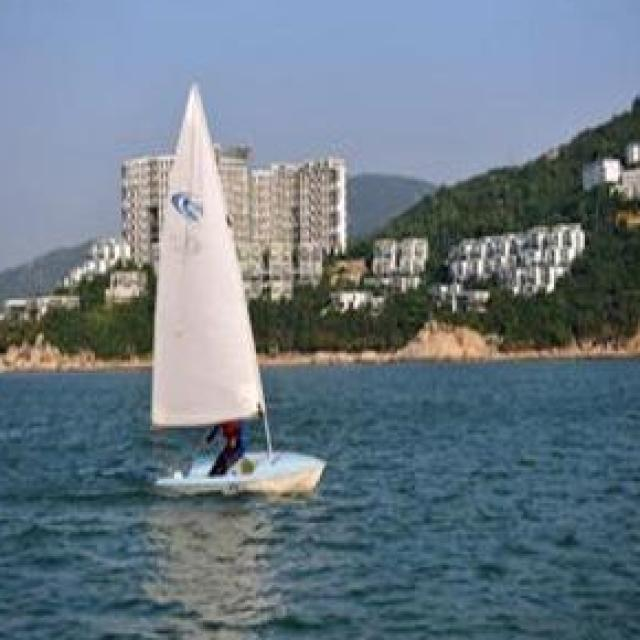sailboat: (140, 80, 334, 500)
